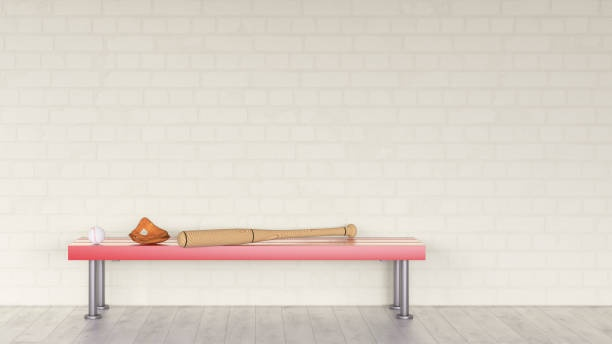bita: (175, 219, 357, 250)
